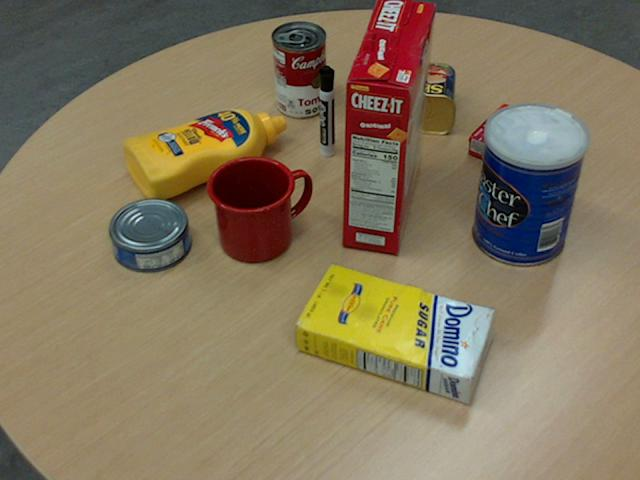cracker_box: (341, 0, 436, 253)
gelatin_box: (468, 101, 555, 172)
large_marker: (318, 64, 334, 156)
master_chef_can: (472, 103, 587, 267)
mug: (205, 155, 310, 262)
mustard_bottle: (121, 108, 286, 199)
potted_meat_can: (373, 60, 456, 134)
sugar_box: (292, 264, 496, 404)
tomato_soup_can: (272, 19, 327, 116)
tuna_fish_can: (107, 197, 190, 271)
